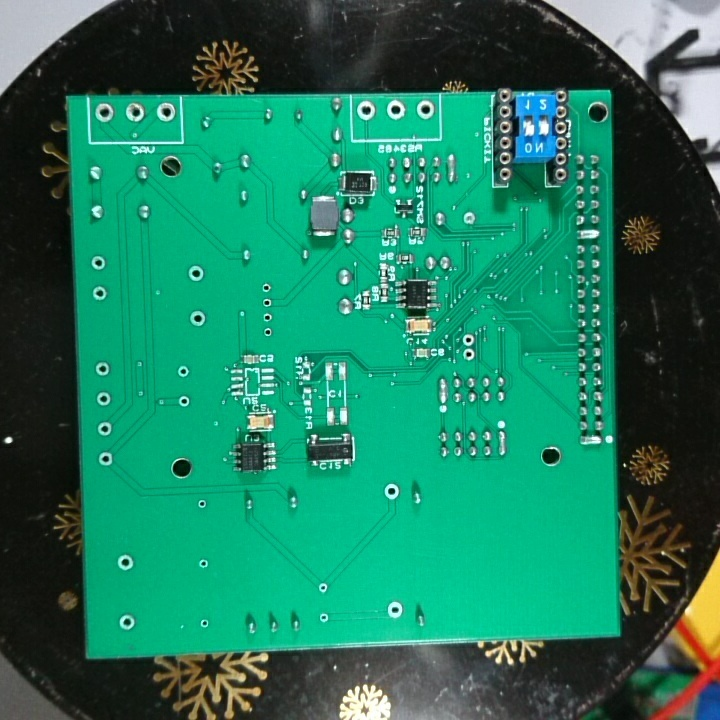F: (153, 100, 179, 126), (123, 101, 148, 125), (92, 103, 118, 125), (354, 98, 377, 122), (384, 98, 407, 122), (414, 98, 436, 123), (87, 251, 108, 274), (383, 599, 404, 622), (381, 480, 401, 504), (114, 554, 137, 574), (187, 263, 206, 287), (93, 359, 115, 379), (90, 283, 110, 305), (189, 306, 207, 330), (116, 613, 137, 633), (461, 208, 480, 229), (93, 389, 113, 408), (94, 420, 114, 439), (96, 448, 116, 467), (174, 393, 193, 411), (461, 344, 476, 365), (175, 362, 191, 380), (316, 610, 332, 627), (197, 615, 213, 632), (258, 280, 274, 297), (459, 332, 476, 347), (196, 556, 210, 574), (261, 323, 275, 341), (194, 496, 209, 512), (259, 310, 275, 325), (316, 578, 330, 595), (259, 295, 276, 309)
P: (444, 153, 459, 185), (495, 428, 509, 460), (434, 376, 450, 404), (574, 227, 603, 242), (577, 435, 603, 449)
